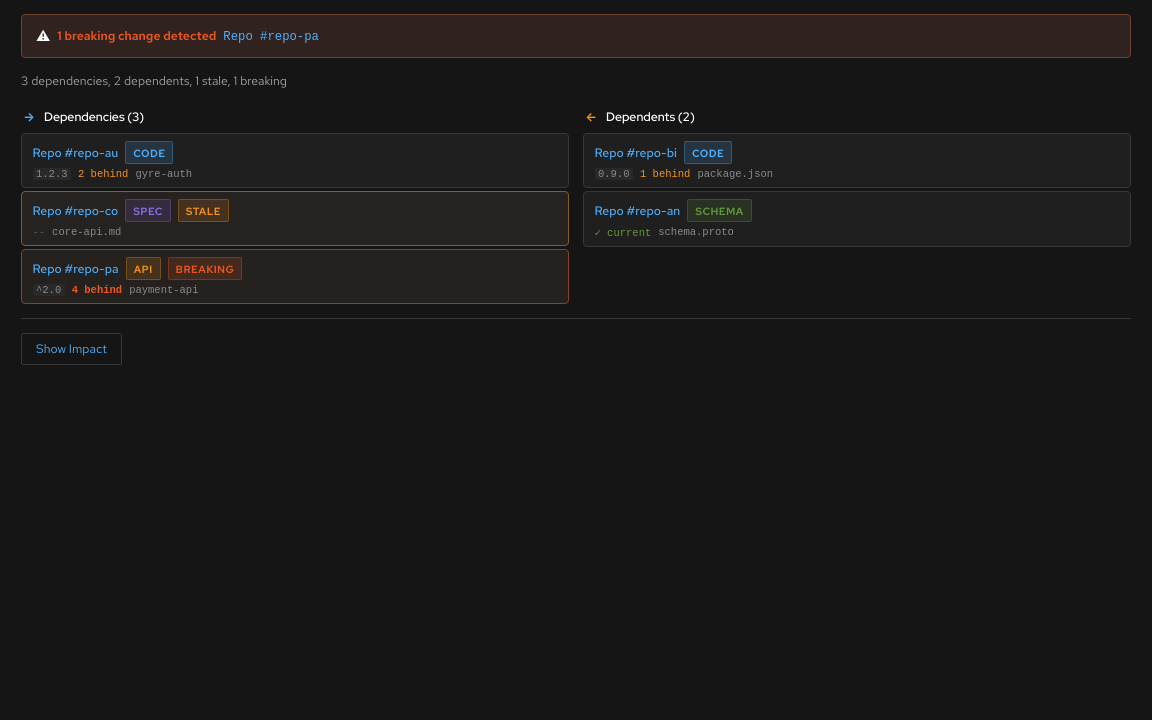
Test: RepoDependencies › renders blast radius tree after clicking Show Impact
Click the button with test id "blast-btn": {"x": 71, "y": 349} [21, 333, 122, 365]
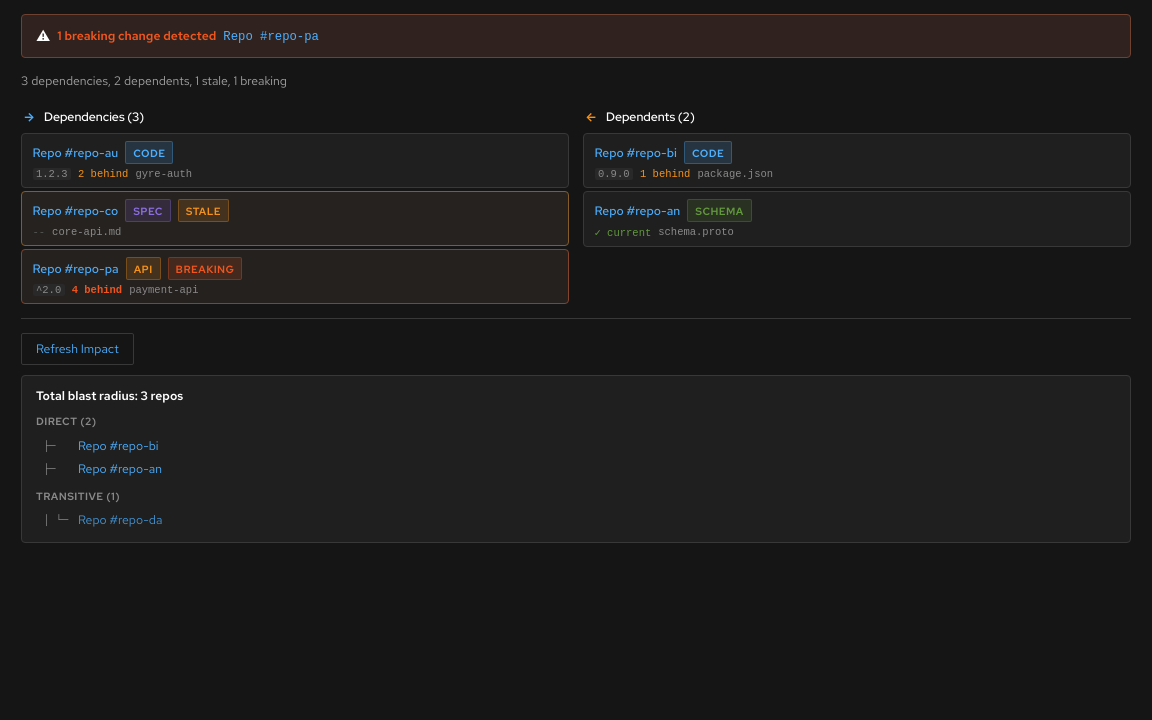
Check: the element with test id "blast-tree" is shown, box [21, 375, 1131, 543]
Check: the element with test id "blast-tree" shows "Total blast radius: 3 repos", box [36, 388, 183, 404]
Check: the number of buttons with test id "blast-direct" is 2, box [36, 434, 1116, 457]; [36, 457, 1116, 480]
